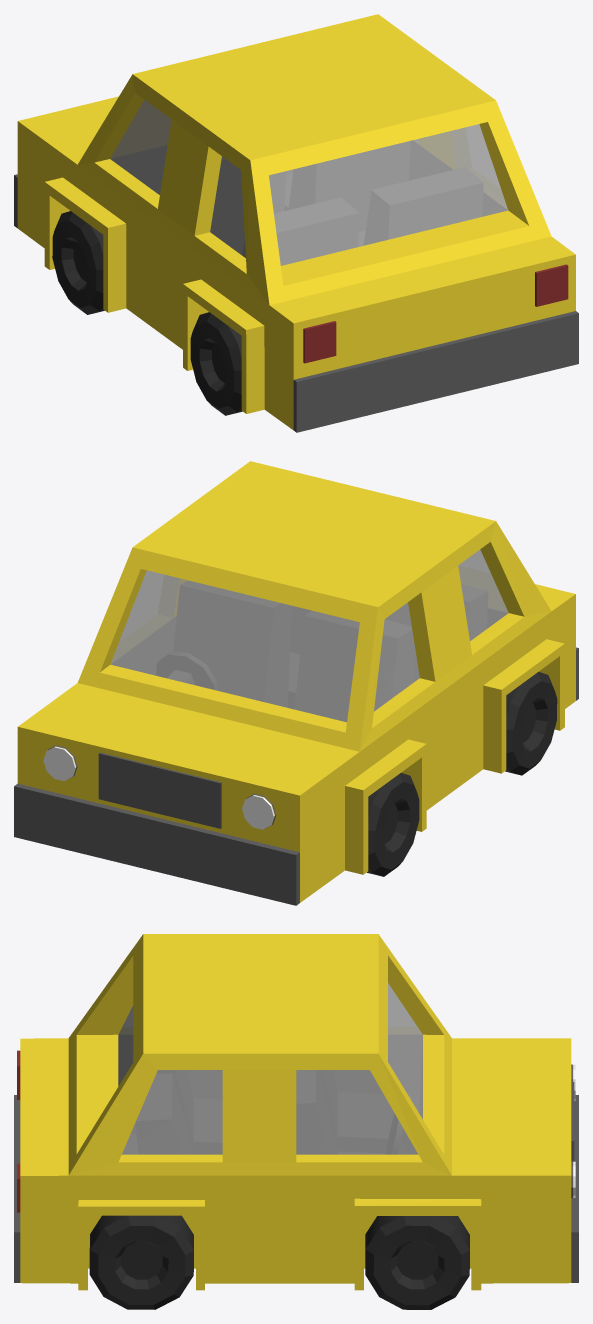
File: car.FBX
3 views of the same model, one above another, from view 1: azimuth 30°, elevation 25°; view 2: azimuth 150°, elevation 25°; view 3: azimuth 270°, elevation 25° (orthographic).
Visible parts, largest first — view 1: Box02, Windows, Rear bumber01, L-Ext04, L-Ext03, L-Ext05, Cylinder04, Cylinder03, L-Ext02, car inside, Brake lights; view 2: Box02, Windows, Front bumper01, L-Ext03, L-Ext02, Grill01, Cylinder04, Cylinder03, car inside, Headlights, L-Ext05, Cylinder05 (+1 smaller); view 3: Box02, Windows, Cylinder01, Cylinder02, car inside, L-Ext02, L-Ext04, L-Ext03, L-Ext05, Front bumper01, Rear bumber01.
Part boxes in pixels (x1,y1,x2,y2): Box02: (17, 14, 575, 430); Windows: (110, 99, 508, 265); Rear bumber01: (293, 311, 578, 432); L-Ext04: (358, 167, 483, 246); L-Ext03: (285, 141, 410, 231); L-Ext05: (242, 198, 359, 265); Cylinder04: (52, 211, 104, 314); Cylinder03: (190, 312, 242, 415); L-Ext02: (210, 157, 285, 254); car inside: (111, 140, 507, 216); Brake lights: (303, 264, 568, 363); Box02: (17, 461, 575, 902); Windows: (110, 549, 508, 722); Front bumper01: (14, 783, 299, 905); L-Ext03: (173, 581, 291, 707); L-Ext02: (295, 611, 415, 721); Grill01: (98, 752, 221, 828); Cylinder04: (367, 772, 419, 876); Cylinder03: (505, 671, 557, 775); car inside: (111, 608, 507, 675); Headlights: (43, 746, 274, 829); L-Ext05: (385, 584, 488, 681); Cylinder05: (156, 651, 216, 689); Box02: (20, 934, 573, 1290); Windows: (118, 983, 422, 1154); Cylinder01: (89, 1215, 193, 1309); Cylinder02: (365, 1216, 469, 1309); car inside: (118, 1035, 422, 1154); L-Ext02: (319, 1070, 411, 1152); L-Ext04: (136, 1074, 192, 1154); L-Ext03: (296, 1070, 385, 1154); L-Ext05: (157, 1070, 222, 1154); Front bumper01: (571, 1095, 578, 1282); Rear bumber01: (14, 1095, 20, 1282).
Size of the model in its own units: 101 by 73.12 by 155.
